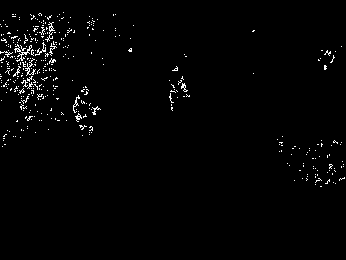person: (71, 86, 104, 140), (163, 64, 196, 116)
